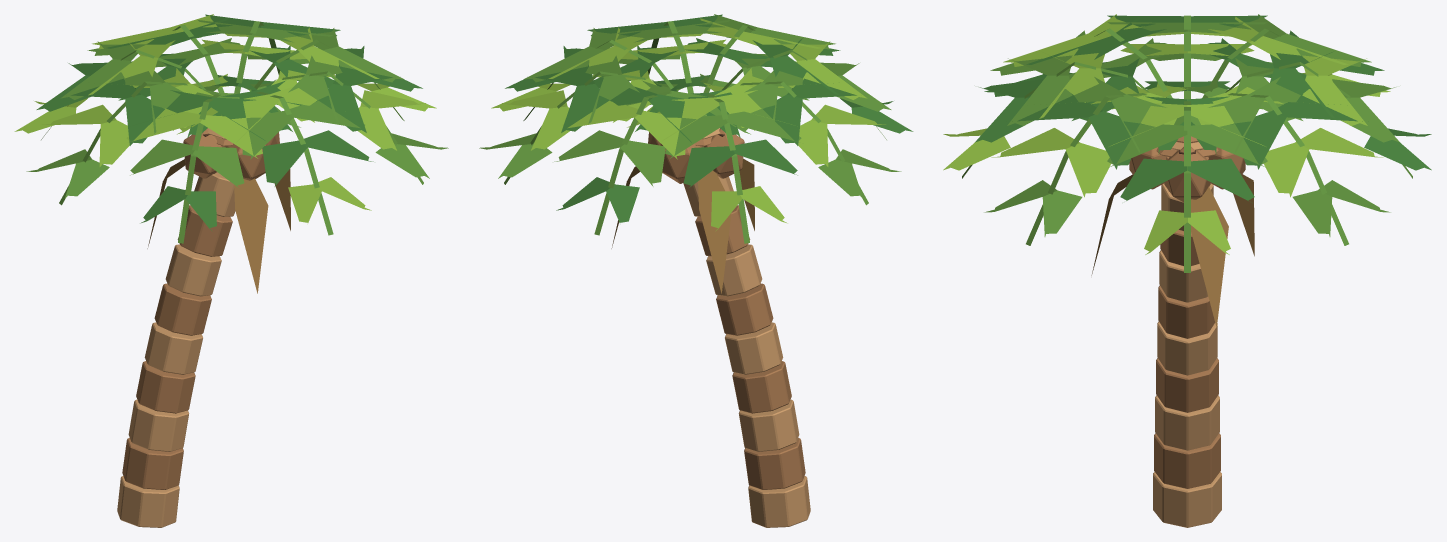
The model's file is palm.glb.
3 views of the same model, side by side, from view 1: azimuth 30°, elevation 25°; view 2: azimuth 150°, elevation 25°; view 3: azimuth 270°, elevation 25° (orthographic). The views are drawn at different scales.
Visible parts, largest first — view 1: Palm trunk ring 01.001, Palm trunk ring 02.001, Dry hanging frond.005, Palm trunk ring 03.001, Palm trunk ring 04.001, Palm trunk ring 05.001, Palm trunk ring 06.001, Palm trunk ring 07.001, Palm trunk ring 08.001, Frond 7 leaflet 5 -1.001, Frond 6 leaflet 5 1.001, Frond 7 leaflet 4 -1.001 (+39 smaller); view 2: Palm trunk ring 01.001, Palm trunk ring 02.001, Palm trunk ring 03.001, Palm trunk ring 04.001, Palm trunk ring 05.001, Palm trunk ring 06.001, Dry hanging frond.004, Palm trunk ring 07.001, Frond 3 leaflet 5 1.001, Frond 4 leaflet 5 -1.001, Frond 3 leaflet 4 1.001, Frond 5 leaflet 4 -1.001 (+38 smaller); view 3: Palm trunk ring 01.001, Palm trunk ring 02.001, Palm trunk ring 03.001, Palm trunk ring 04.001, Palm trunk ring 05.001, Dry hanging frond.003, Palm trunk ring 06.001, Palm trunk ring 07.001, Frond 2 leaflet 5 -1.001, Frond 8 leaflet 5 1.001, Frond 2 leaflet 4 -1.001, Frond 8 leaflet 4 1.001 (+42 smaller).
Part boxes in pixels (x1,y1,x2,y2): Palm trunk ring 01.001: (117, 476, 179, 527); Palm trunk ring 02.001: (122, 438, 183, 489); Dry hanging frond.005: (234, 178, 268, 293); Palm trunk ring 03.001: (128, 399, 189, 451); Palm trunk ring 04.001: (136, 361, 195, 413); Palm trunk ring 05.001: (144, 322, 202, 374); Palm trunk ring 06.001: (154, 283, 211, 335); Palm trunk ring 07.001: (165, 244, 221, 296); Palm trunk ring 08.001: (177, 205, 232, 256); Frond 7 leaflet 5 -1.001: (262, 140, 307, 186); Frond 6 leaflet 5 1.001: (193, 146, 244, 187); Frond 7 leaflet 4 -1.001: (242, 111, 293, 159); Palm trunk ring 01.001: (748, 476, 810, 527); Palm trunk ring 02.001: (744, 438, 805, 489); Palm trunk ring 03.001: (738, 399, 799, 451); Palm trunk ring 04.001: (732, 361, 791, 413); Palm trunk ring 05.001: (725, 322, 783, 374); Palm trunk ring 06.001: (716, 283, 773, 335); Dry hanging frond.004: (698, 170, 731, 293); Palm trunk ring 07.001: (706, 244, 762, 296); Frond 3 leaflet 5 1.001: (620, 140, 665, 186); Frond 4 leaflet 5 -1.001: (683, 146, 734, 187); Frond 3 leaflet 4 1.001: (634, 111, 685, 159); Frond 5 leaflet 4 -1.001: (763, 94, 802, 145); Palm trunk ring 01.001: (1153, 471, 1221, 527); Palm trunk ring 02.001: (1154, 433, 1220, 488); Palm trunk ring 03.001: (1155, 395, 1219, 450); Palm trunk ring 04.001: (1156, 358, 1218, 412); Palm trunk ring 05.001: (1157, 321, 1217, 375); Dry hanging frond.003: (1191, 186, 1228, 327); Palm trunk ring 06.001: (1158, 285, 1215, 338); Palm trunk ring 07.001: (1159, 250, 1207, 302); Frond 2 leaflet 5 -1.001: (1264, 143, 1309, 197); Frond 8 leaflet 5 1.001: (1065, 143, 1110, 197); Frond 2 leaflet 4 -1.001: (1230, 111, 1286, 169); Frond 8 leaflet 4 1.001: (1088, 111, 1144, 169).
Bounding box in the file's own units: 3.22 × 3.61 × 3.22.
